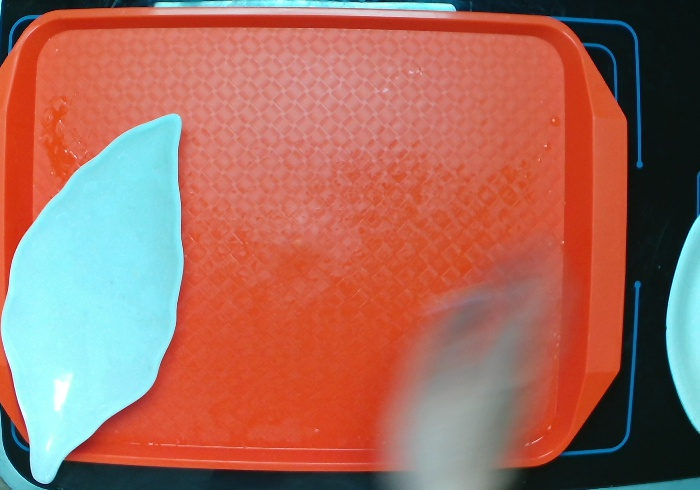RJxy-Shu_Ye_Pan: (1, 111, 186, 483)
